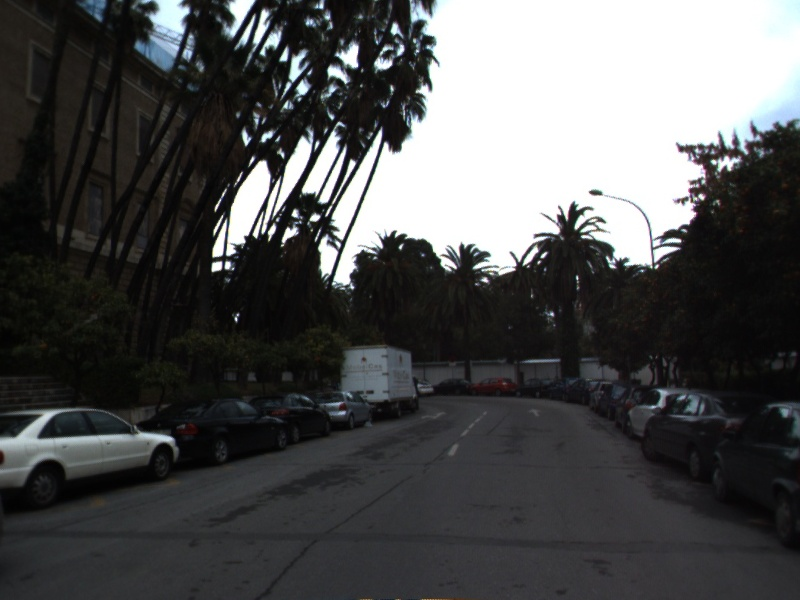STRAIGHT: (526, 407, 543, 418)
STRAIGHT_LEFT: (419, 410, 449, 421)
